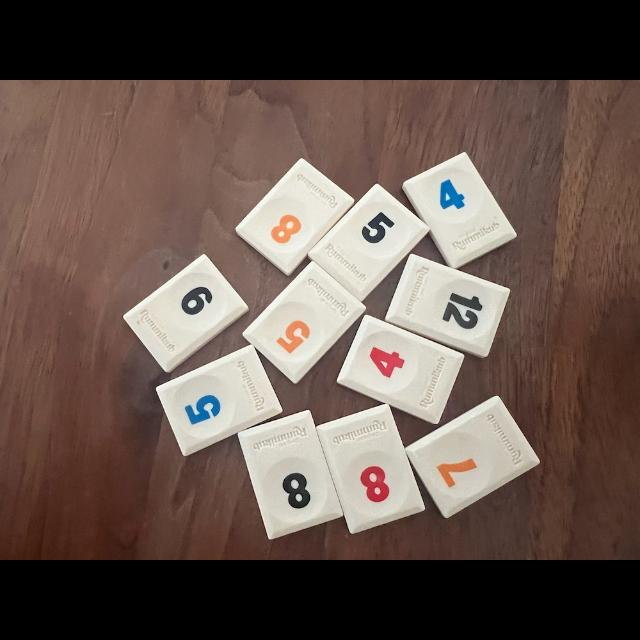black_12: (385, 254, 510, 358)
black_5: (309, 184, 429, 301)
black_6: (125, 255, 248, 372)
black_8: (239, 410, 342, 539)
blue_4: (404, 152, 516, 269)
blue_5: (156, 345, 282, 456)
orange_5: (244, 261, 365, 384)
orange_7: (405, 396, 540, 518)
orange_8: (236, 159, 354, 275)
red_4: (338, 315, 464, 424)
red_8: (318, 404, 425, 534)
